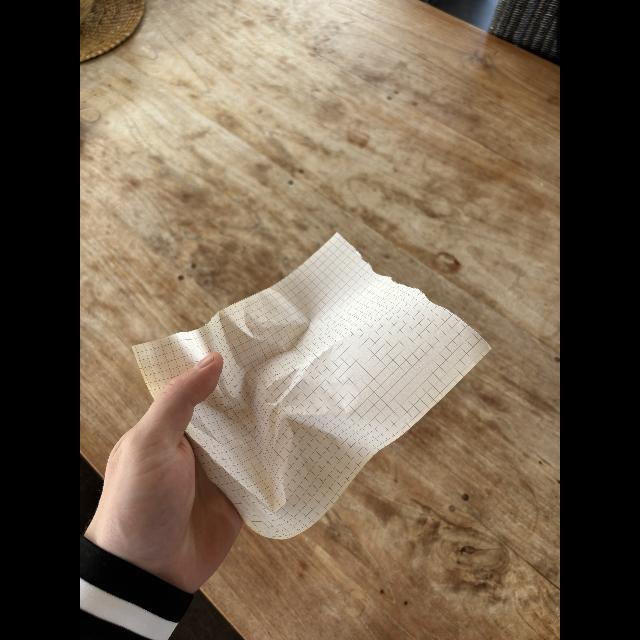Paper: (134, 232, 492, 538)
